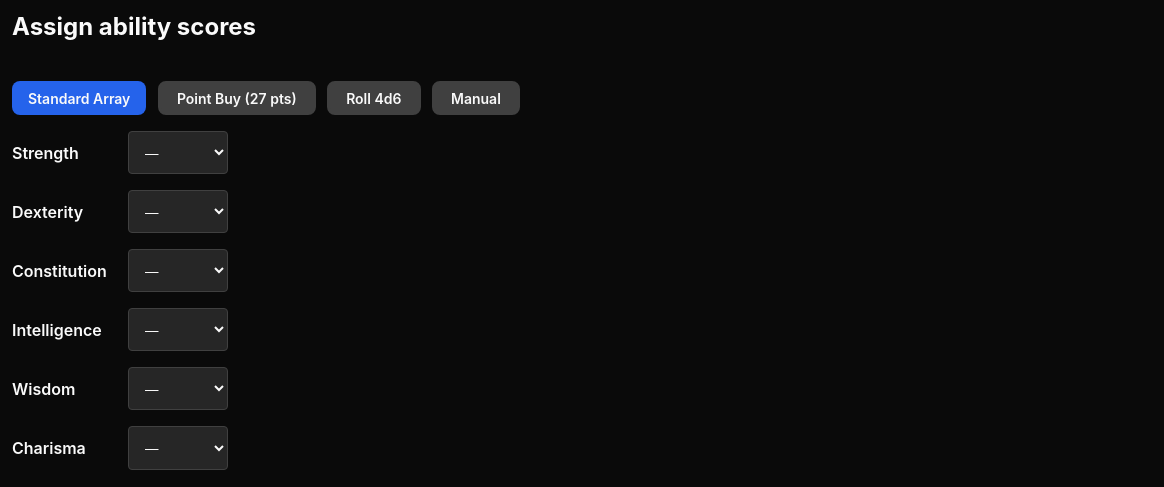
AbilitiesStep › method switching › switches to point buy and shows points remaining
The image size is (1164, 487).
Click the button "Point Buy (27 pts)": {"x": 237, "y": 98} [158, 81, 316, 115]
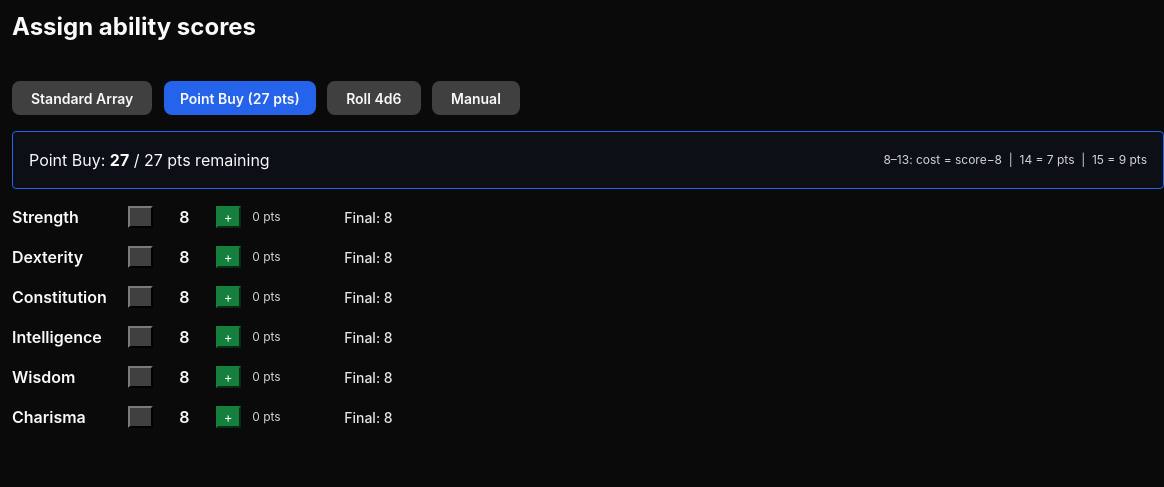
expect the text "27" is shown: met, box [110, 150, 129, 170]
